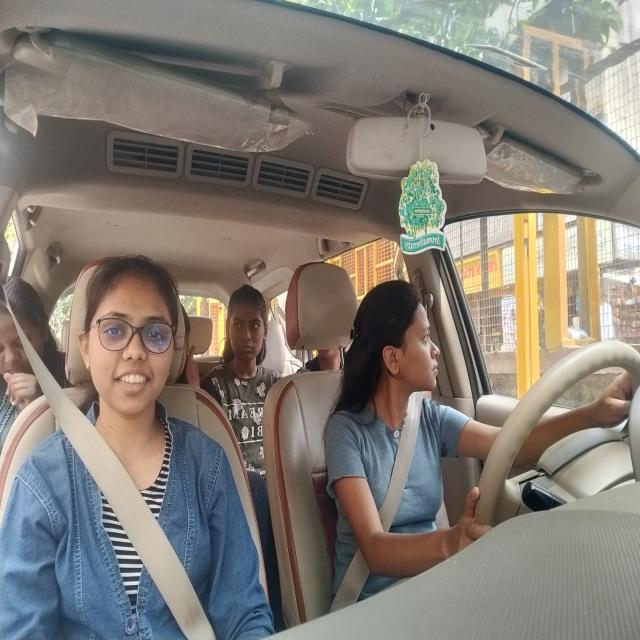LeftRight: (335, 275, 456, 441)
person: (76, 246, 192, 442), (0, 260, 59, 414), (213, 268, 283, 397)
